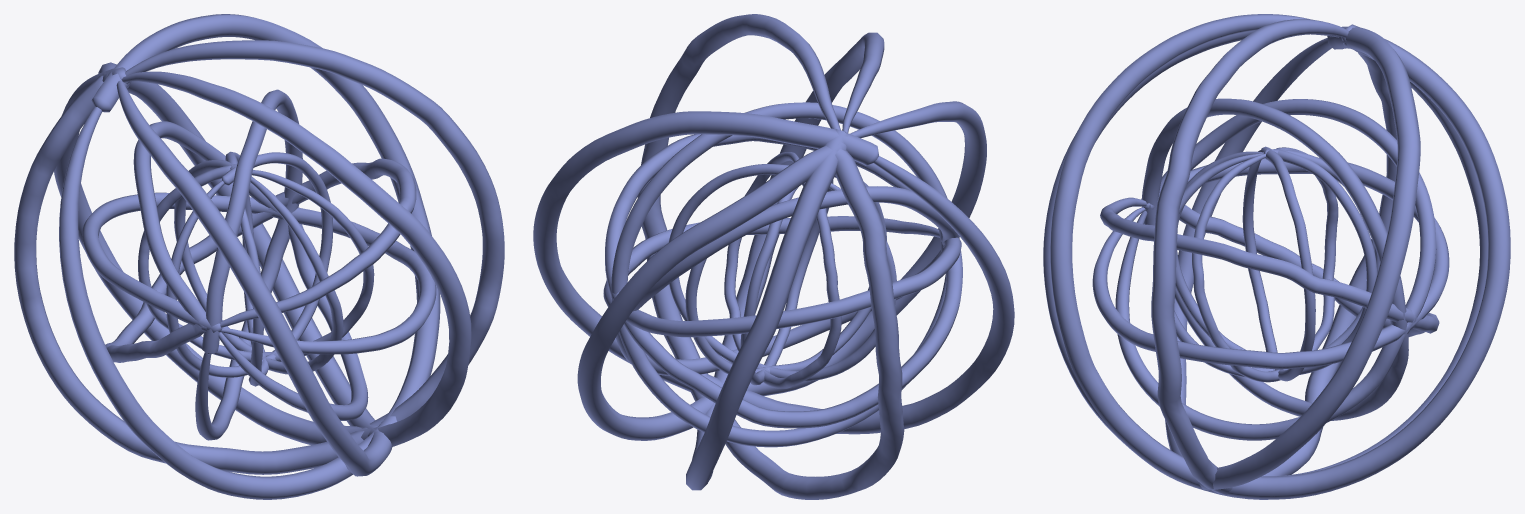
3 views of the same model, side by side, from view 1: azimuth 30°, elevation 25°; view 2: azimuth 150°, elevation 25°; view 3: azimuth 270°, elevation 25° (orthographic).
Visible parts, largest first — view 1: brush_ChromaticWave_g0_b0; view 2: brush_ChromaticWave_g0_b0; view 3: brush_ChromaticWave_g0_b0.
Part boxes in pixels (x1=…): brush_ChromaticWave_g0_b0: x1=14, y1=14, x2=504, y2=499; brush_ChromaticWave_g0_b0: x1=533, y1=14, x2=1014, y2=499; brush_ChromaticWave_g0_b0: x1=1043, y1=14, x2=1510, y2=499.
Bounding box in the file's own units: 1.99 × 2.06 × 1.98.
